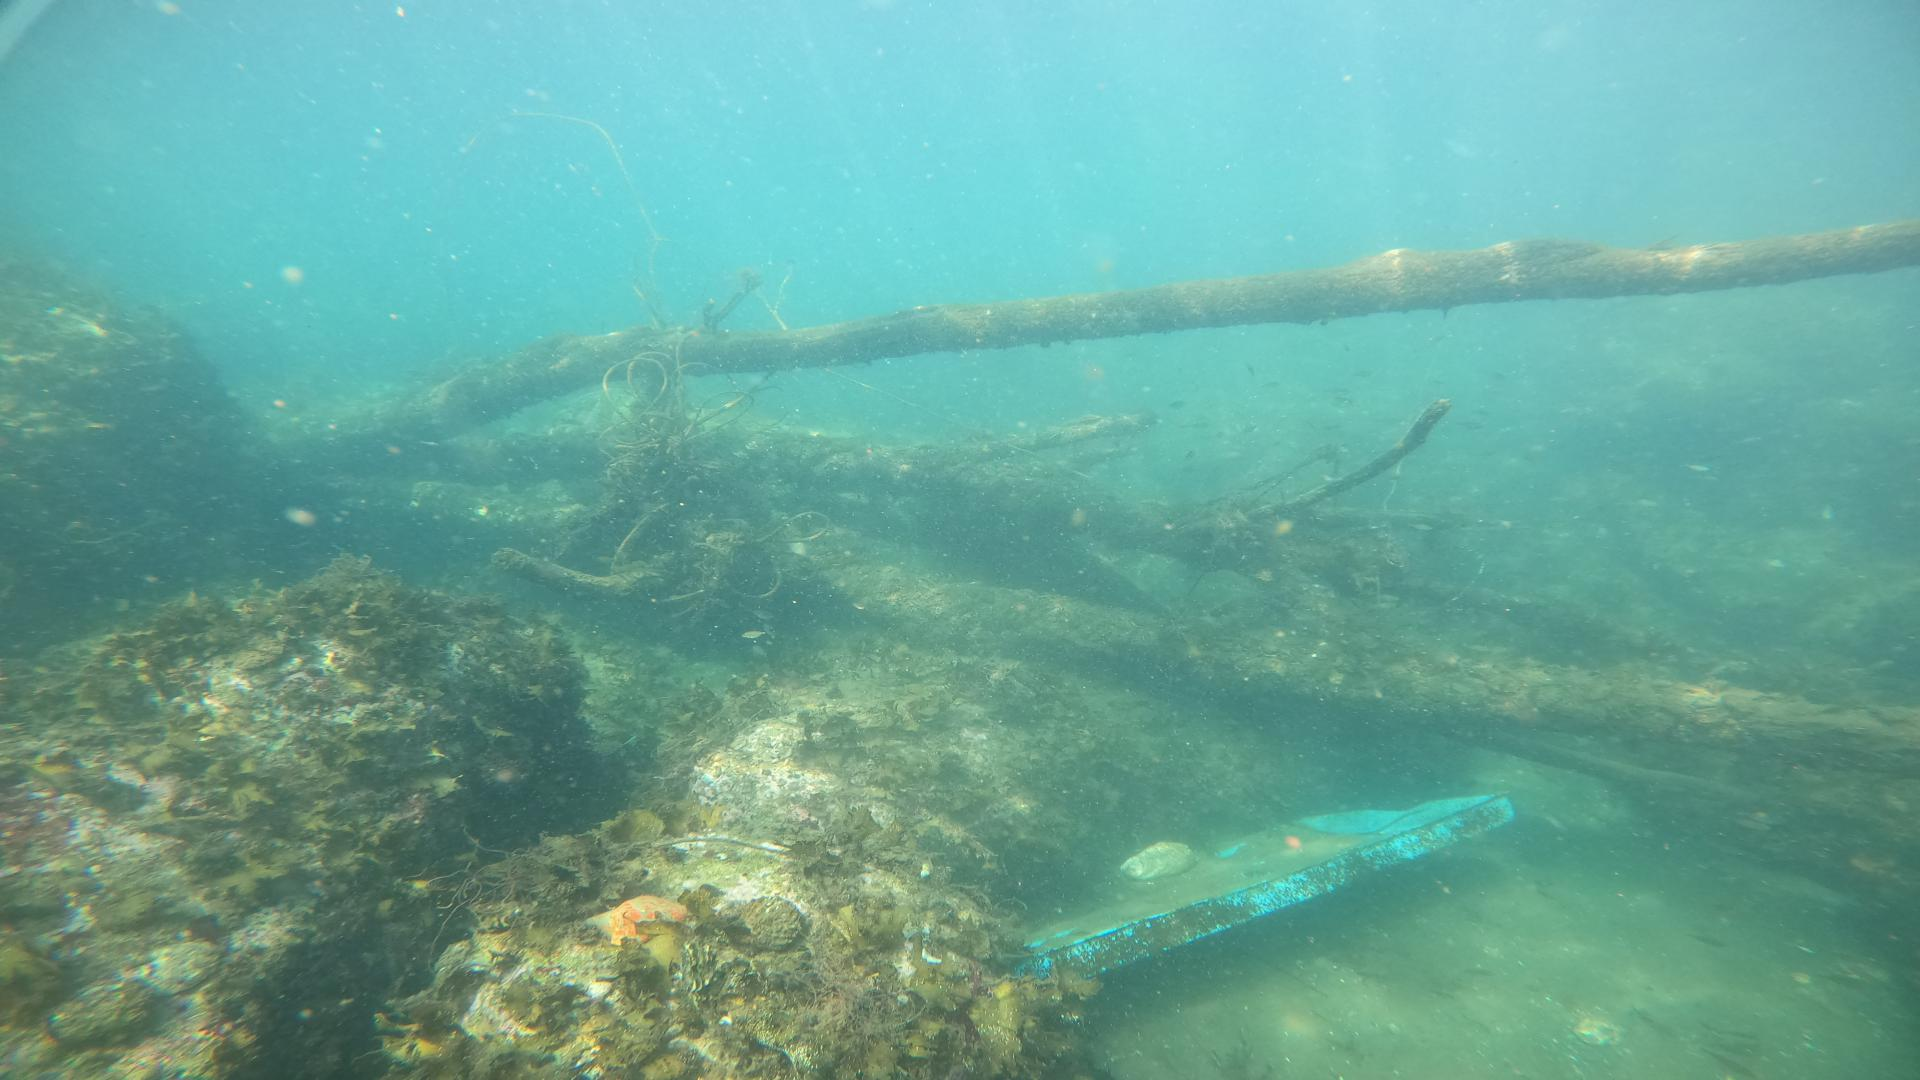bundle of ropes: (415, 107, 833, 603)
wood: (266, 208, 1920, 853)
